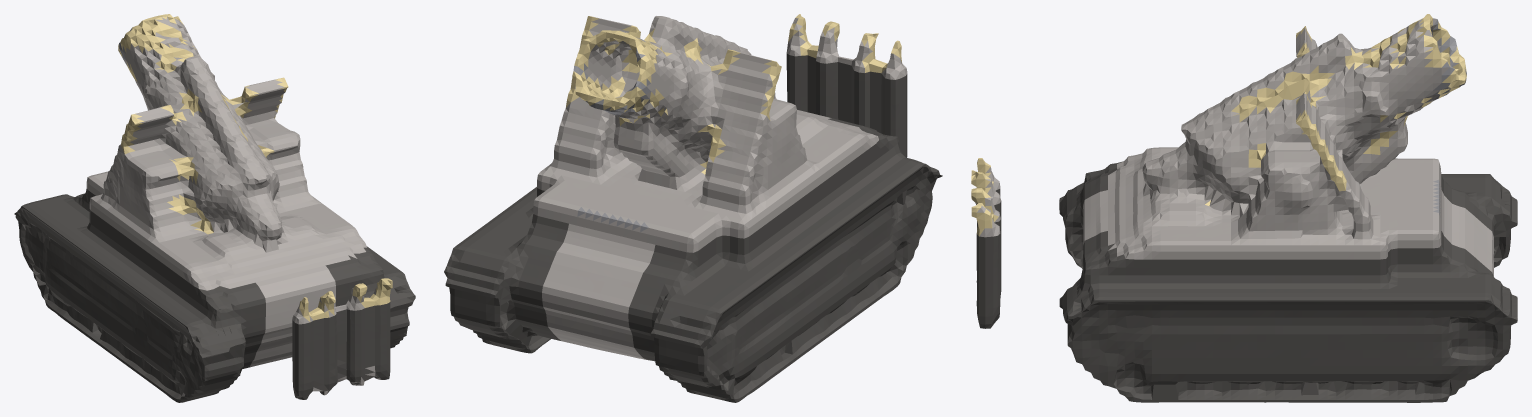
Rendered from unit_hammerfall.glb.
3 views of the same model, side by side, from view 1: azimuth 30°, elevation 25°; view 2: azimuth 150°, elevation 25°; view 3: azimuth 270°, elevation 25° (orthographic). The views are drawn at different scales.
Parts seen in each view (by area): view 1: Mesh_0.063; view 2: Mesh_0.063; view 3: Mesh_0.063.
Boxes of the visible parts, left/top/right/bottom form: Mesh_0.063: left=14, top=14, right=415, bottom=402; Mesh_0.063: left=444, top=14, right=942, bottom=402; Mesh_0.063: left=971, top=14, right=1517, bottom=402.
Size of the model in its own units: 1.86 by 2.24 by 3.4.
